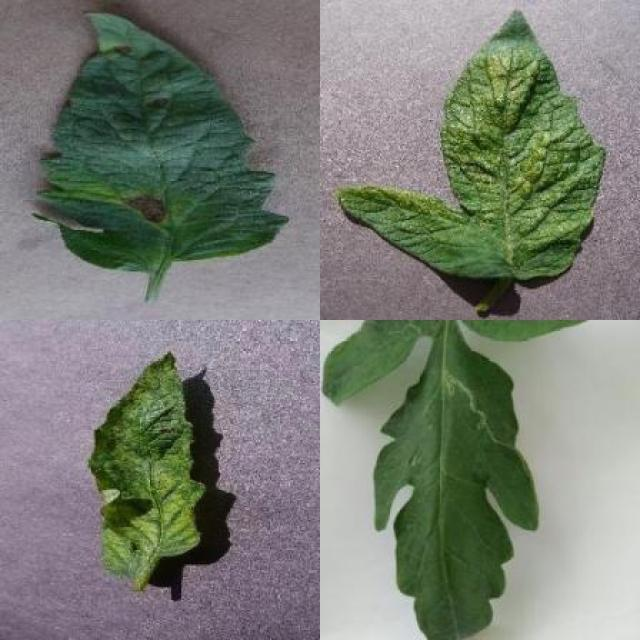Early Blight: (36, 8, 290, 272)
Leaf Miner: (372, 341, 542, 640)
Mosaic Virus: (86, 350, 208, 576)
Spider Mites: (342, 9, 607, 280)
